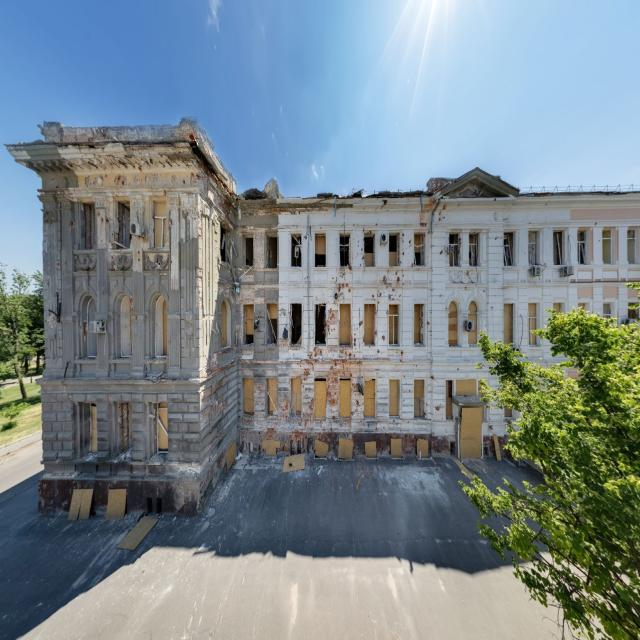broken_window: (338, 303, 351, 346), (387, 303, 400, 346), (290, 302, 302, 346), (314, 302, 326, 346), (413, 303, 424, 346), (314, 232, 326, 267), (363, 232, 375, 266)
building: (4, 116, 639, 514)
damaged_roof: (3, 116, 236, 198)
